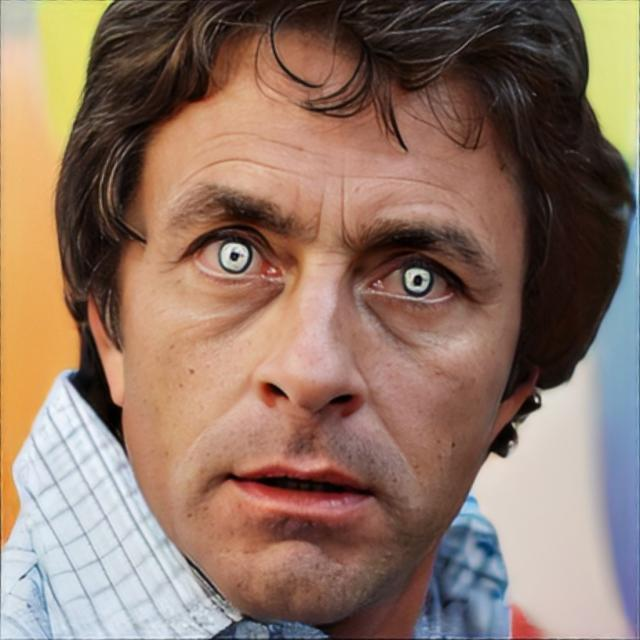fear: (117, 22, 530, 624)
